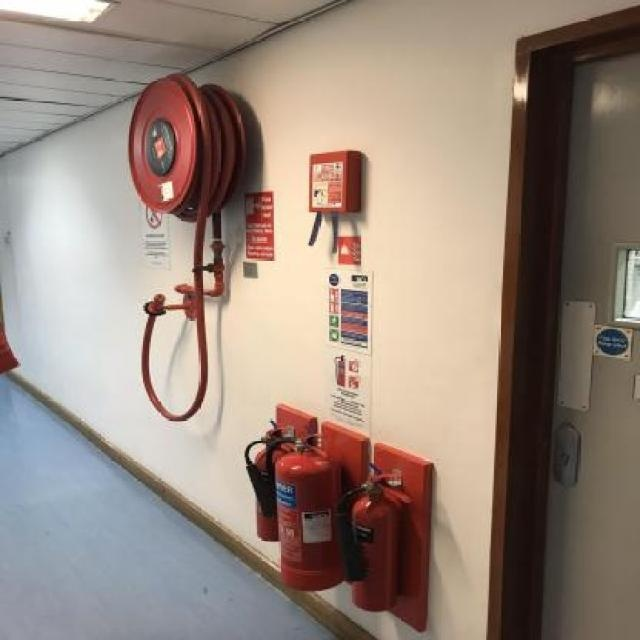fire extinguisher: (264, 433, 345, 592), (335, 472, 414, 612), (245, 426, 297, 542)
